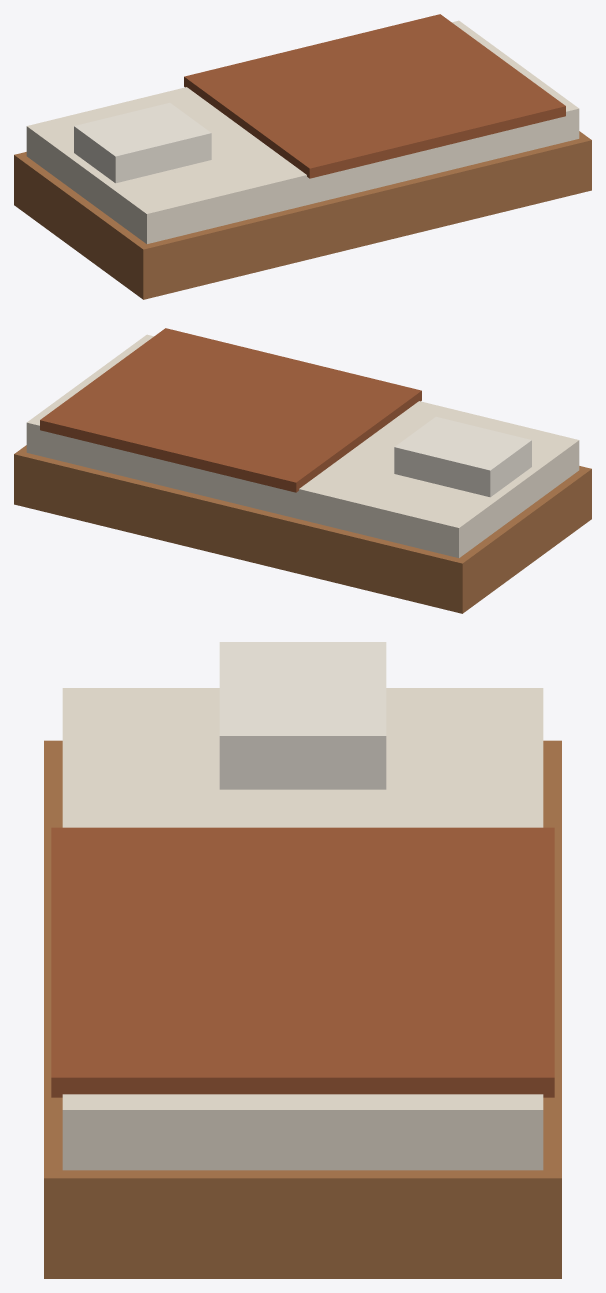
Rendered from bed.glb.
The picture shows the model from 3 angles, top to bottom: view 1: azimuth 30°, elevation 25°; view 2: azimuth 150°, elevation 25°; view 3: azimuth 270°, elevation 25°; orthographic projection. The views are drawn at different scales.
Parts seen in each view (by area): view 1: bed; view 2: bed; view 3: bed.
Part boxes in pixels (box(x1,y1,x2,y2)): bed: box(14, 14, 591, 299); bed: box(14, 328, 591, 613); bed: box(44, 642, 561, 1278).
Size of the model in its own units: 2.8 by 0.64 by 1.4.
